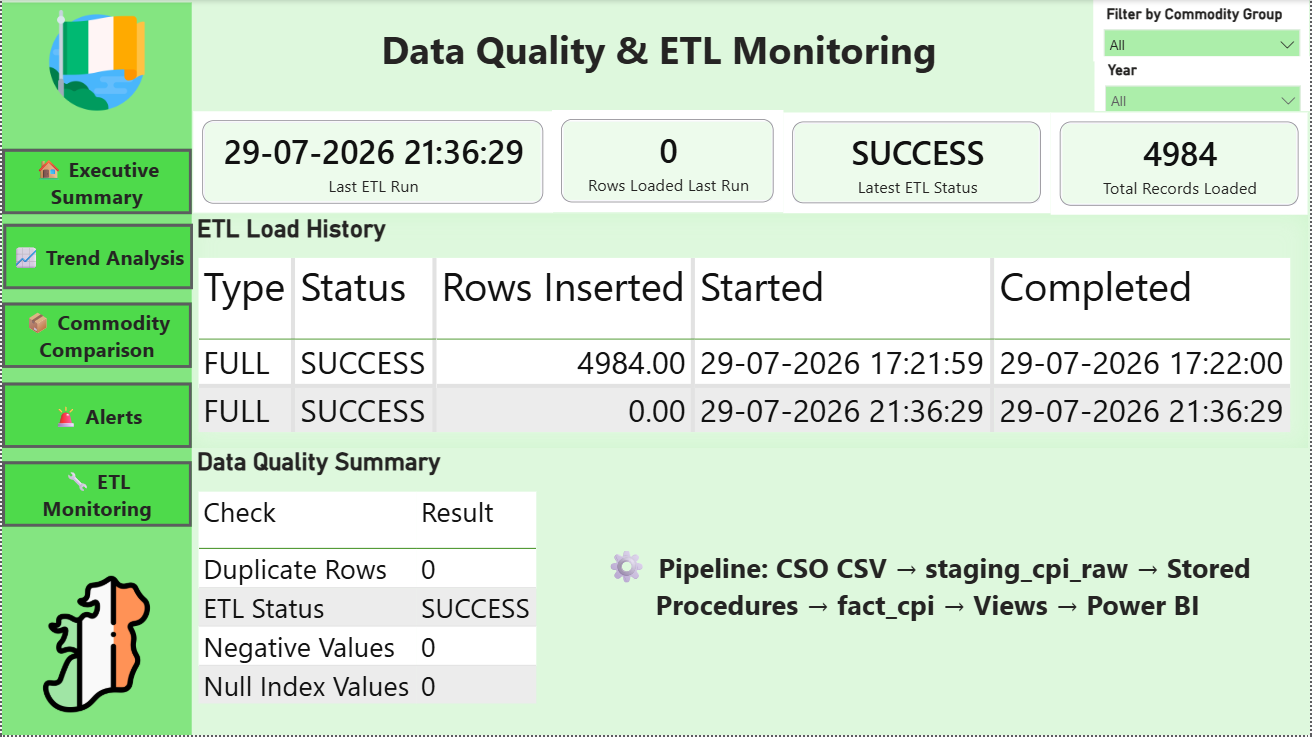

Layout of this report page (visuals, bound fields, positions):
{"tool":"powerbi","page":{"name":"ETL Monitoring","canvas":[1280,720],"ordinal":4},"visuals":[{"type":"cardVisual","fields":{"Data":["ireland_cpi_db etl_load_log.Last ETL Run"]},"box":[186.5,109.4,352,99.6],"z":0},{"type":"cardVisual","fields":{"Data":["ireland_cpi_db etl_load_log.Latest ETL Status"]},"box":[764.3,110,261.4,98.6],"z":1},{"type":"tableEx","title":"ETL Load History","fields":{"Values":["ireland_cpi_db etl_load_log.load_type","ireland_cpi_db etl_load_log.status","Avg(ireland_cpi_db etl_load_log.rows_inserted)","ireland_cpi_db etl_load_log.started_at","ireland_cpi_db etl_load_log.completed_at"]},"box":[185.9,209.1,1092,228.7],"z":2},{"type":"slicer","fields":{"Values":["ireland_cpi_db vw_cpi_monthly_summary.group_name"]},"box":[1068,0,212,60],"z":3},{"type":"textbox","box":[0,0,1068.9,108.6],"z":4},{"type":"textbox","box":[0,2.2,185.2,717.8],"z":5},{"type":"image","box":[26,562,133.9,135.1],"z":6},{"type":"actionButton","box":[0,145,185.8,64.2],"z":7},{"type":"actionButton","box":[0.8,219.2,185.8,64.2],"z":8},{"type":"actionButton","box":[0,295.8,185.8,64.2],"z":9},{"type":"actionButton","box":[0,374.2,185.8,64.2],"z":10},{"type":"actionButton","box":[0,450.8,185.8,64.2],"z":11},{"type":"image","box":[26,10,134,98],"z":12},{"type":"slicer","fields":{"Values":["DateTable.Year"]},"box":[1068.3,54.7,211.7,53.3],"z":13},{"type":"cardVisual","fields":{"Data":["ireland_cpi_db etl_load_log.Rows Loaded Last Run"]},"box":[538.5,108,226.2,99.8],"z":16},{"type":"cardVisual","fields":{"Data":["ireland_cpi_db etl_load_log.Total Records Loaded"]},"box":[1025.7,110,251.4,100],"z":17},{"type":"tableEx","title":"Data Quality Summary","fields":{"Values":["DataQualitySummary.Check","DataQualitySummary.Result"]},"box":[185.9,437.8,348.5,282.5],"z":18},{"type":"textbox","box":[534.4,437.8,742.3,282.5],"z":19}]}

Visuals, with their boxes in screenshot pixels (x1, y1, x2, y2), scaled from the page's 1280x720 canvas onto the 1312x737 screenshot:
cardVisual - ireland_cpi_db etl_load_log.Last ETL Run: box=[191, 112, 552, 214]
cardVisual - ireland_cpi_db etl_load_log.Latest ETL Status: box=[783, 113, 1051, 214]
"ETL Load History" tableEx: box=[191, 214, 1310, 448]
slicer - ireland_cpi_db vw_cpi_monthly_summary.group_name: box=[1095, 0, 1311, 61]
textbox: box=[0, 0, 1096, 111]
textbox: box=[0, 2, 190, 736]
image: box=[27, 575, 164, 714]
actionButton: box=[0, 148, 190, 214]
actionButton: box=[1, 224, 191, 290]
actionButton: box=[0, 303, 190, 368]
actionButton: box=[0, 383, 190, 449]
actionButton: box=[0, 461, 190, 527]
image: box=[27, 10, 164, 111]
slicer - DateTable.Year: box=[1095, 56, 1311, 111]
cardVisual - ireland_cpi_db etl_load_log.Rows Loaded Last Run: box=[552, 111, 784, 213]
cardVisual - ireland_cpi_db etl_load_log.Total Records Loaded: box=[1051, 113, 1309, 215]
"Data Quality Summary" tableEx: box=[191, 448, 548, 736]
textbox: box=[548, 448, 1309, 736]
